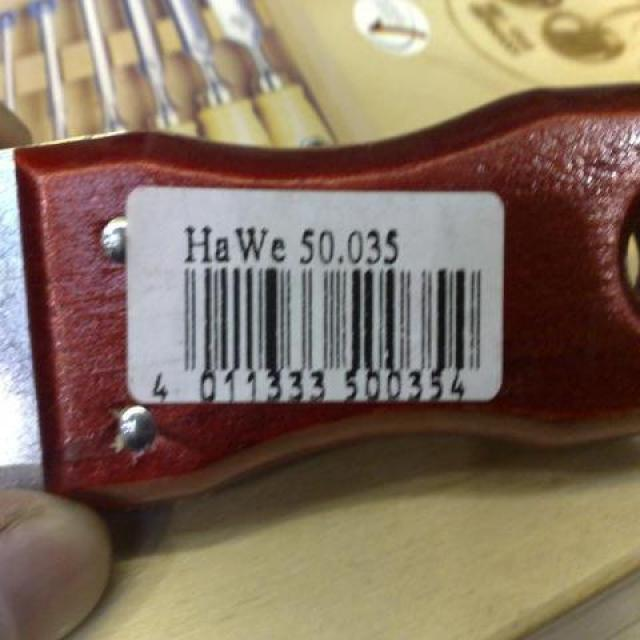Barcode: (129, 188, 498, 401)
